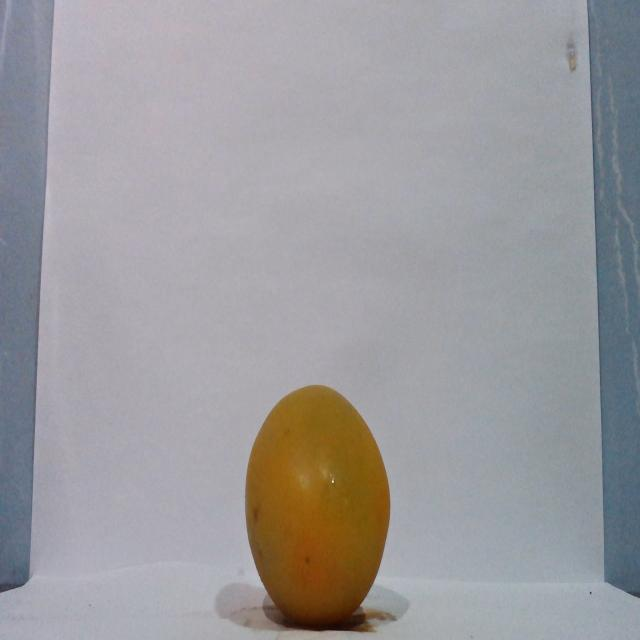Red: (243, 382, 391, 626)
